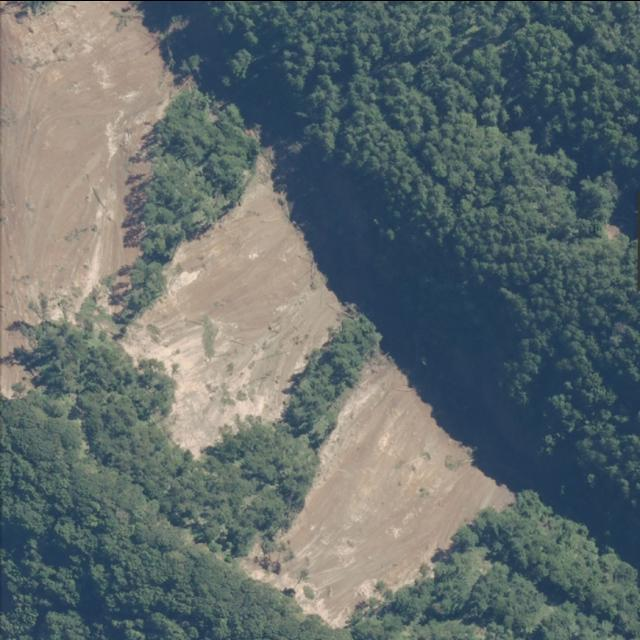landslide: (241, 357, 514, 627), (120, 154, 344, 455), (0, 0, 177, 354)
